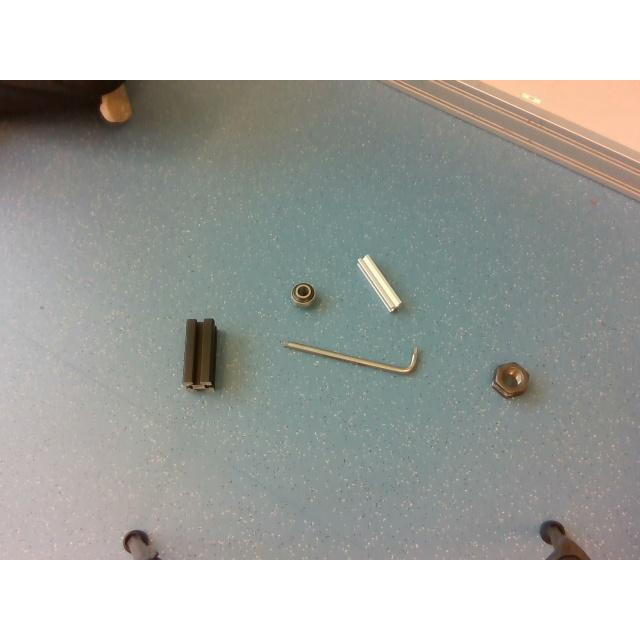AllenKey: (282, 340, 418, 374)
Bearing2: (291, 282, 315, 306)
F20_20_G: (357, 255, 401, 312)
M30: (492, 362, 528, 398)
S40_40_B: (183, 320, 215, 388)
